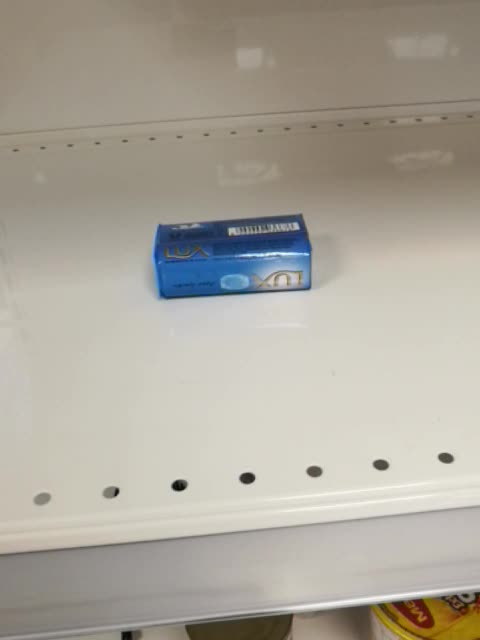soap: (148, 211, 314, 301)
